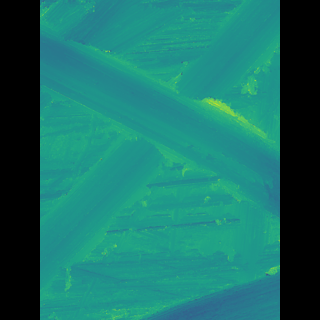Loch: (69, 0, 250, 299)
